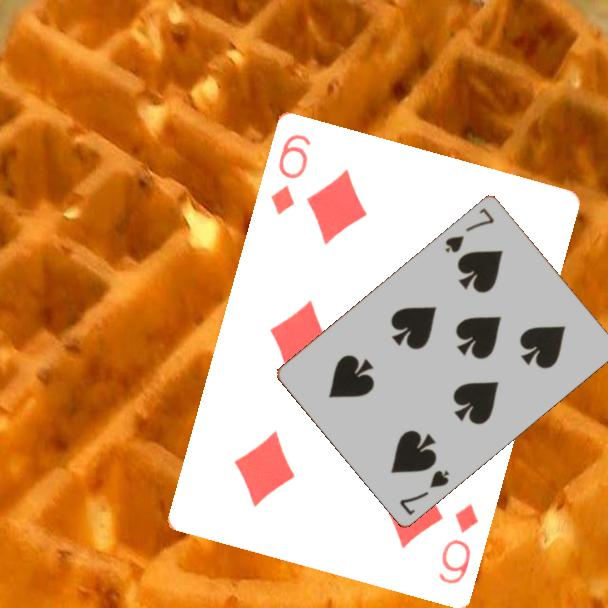d06: (266, 130, 314, 217), (434, 499, 481, 587)
s07: (396, 466, 453, 518), (441, 204, 497, 256)
